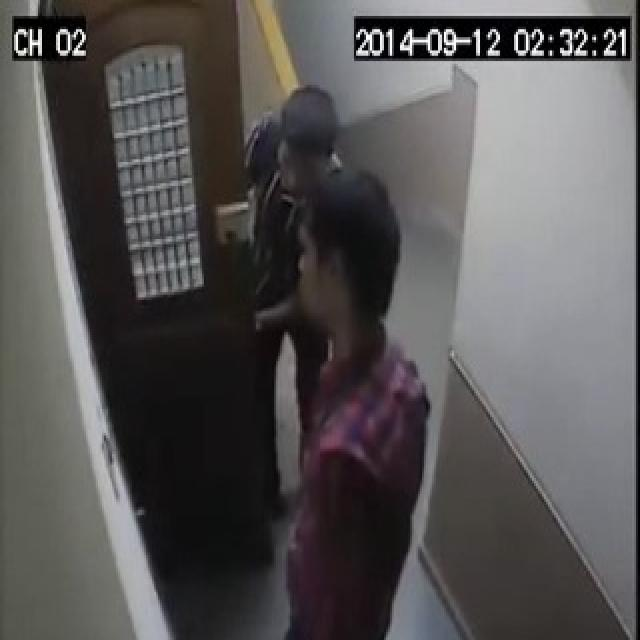thief: (250, 79, 434, 640)
